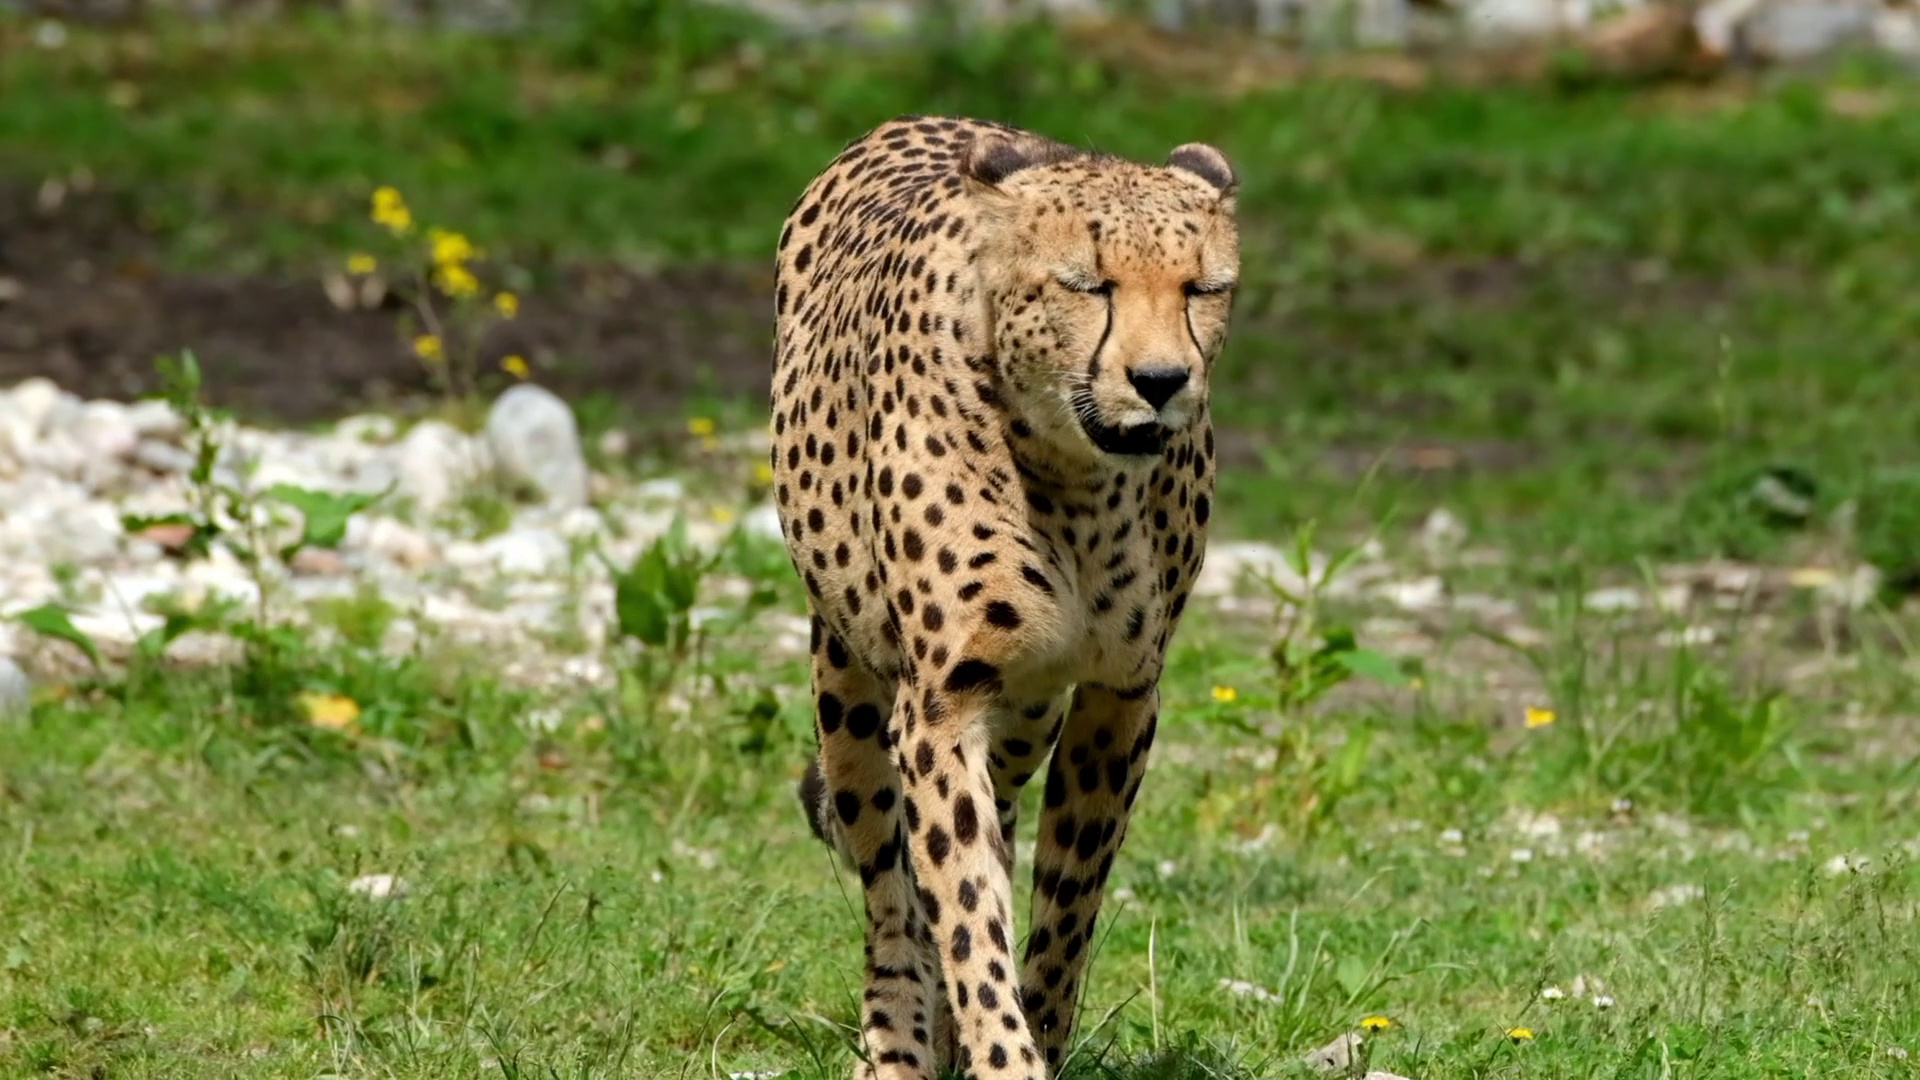Cheetah: (766, 109, 1247, 1080)
